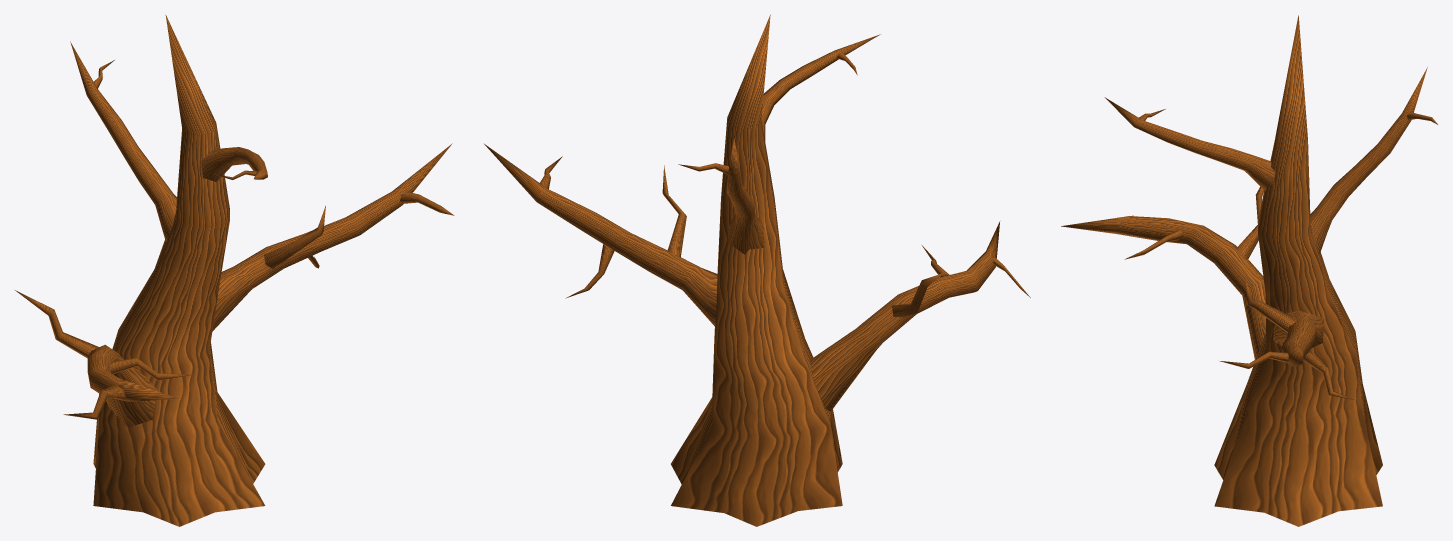
Rendered from Tree02.FBX.
The picture shows the model from 3 angles, left to right: view 1: azimuth 30°, elevation 25°; view 2: azimuth 150°, elevation 25°; view 3: azimuth 270°, elevation 25°; orthographic projection.
Visible parts, largest first — view 1: Trunc02; view 2: Trunc02; view 3: Trunc02.
Boxes of the visible parts, left/top/right/bottom form: Trunc02: left=15, top=15, right=454, bottom=526; Trunc02: left=484, top=14, right=1030, bottom=526; Trunc02: left=1061, top=15, right=1437, bottom=526.
Size of the model in its own units: 55.46 by 53.5 by 39.5.
